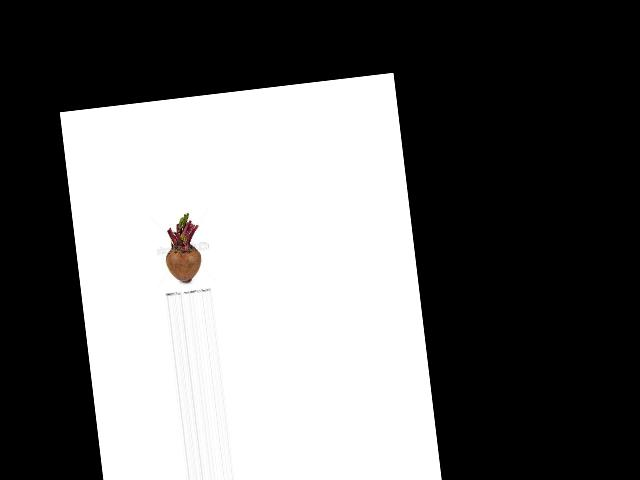beet: (160, 212, 204, 284)
